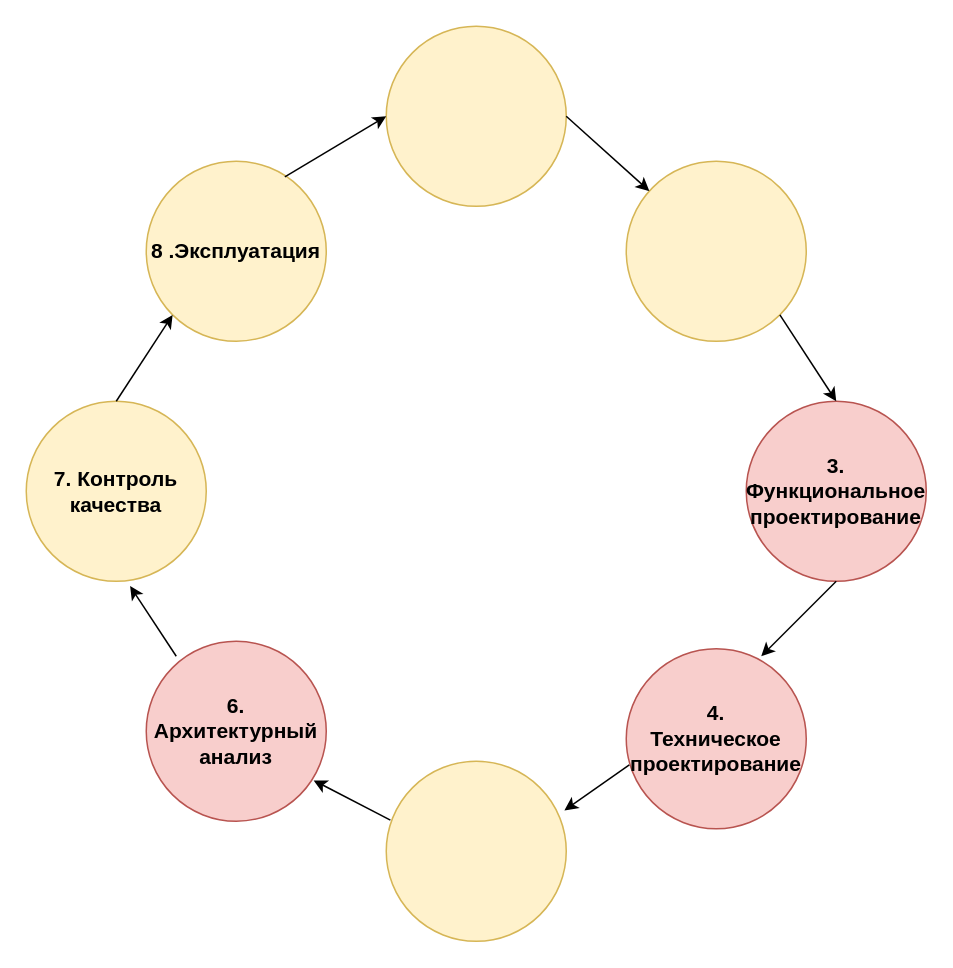
The diagram is 953 pixels wide and 968 high, and some of its shapes have lost their labels. Here are the shapes that lost their labels. From the top down, the box of each, then its label:
(385, 25, 566, 206): 1. Требования
(625, 160, 806, 341): 2. Анализ требований
(385, 760, 566, 941): 5. Разработка
